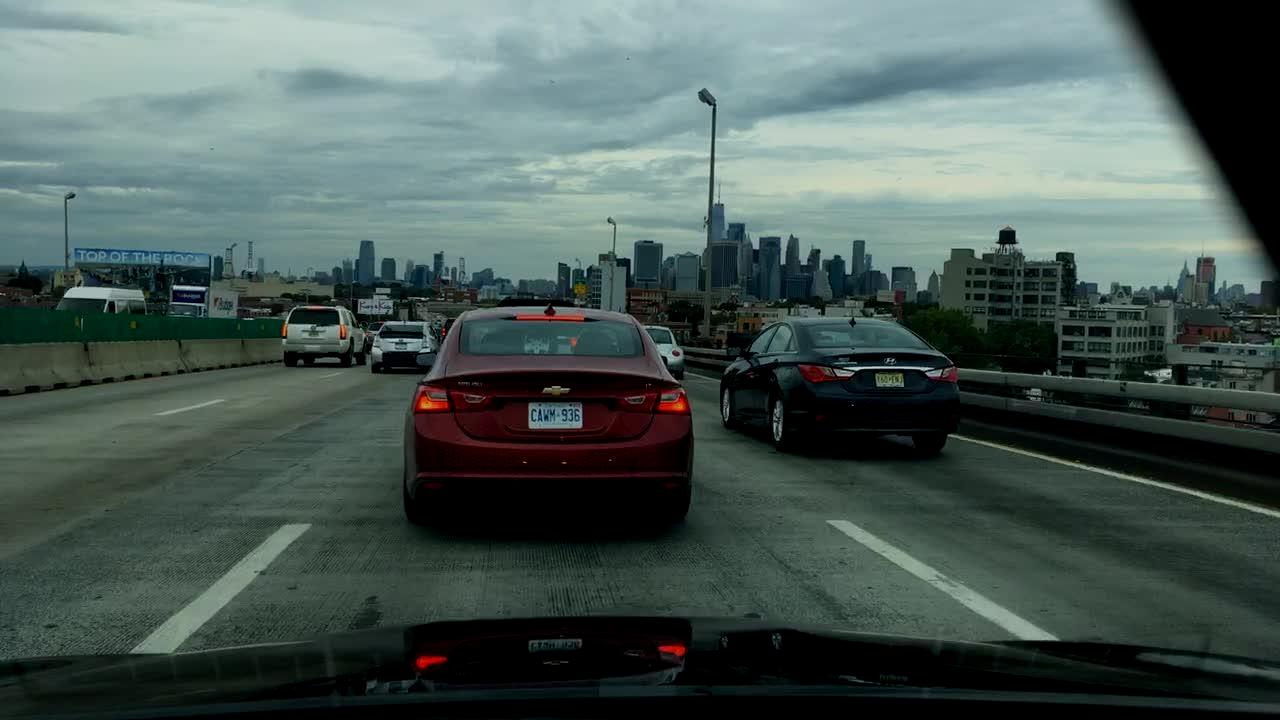Hyundai: (882, 353, 898, 367)
chevrolet: (538, 378, 577, 403)
